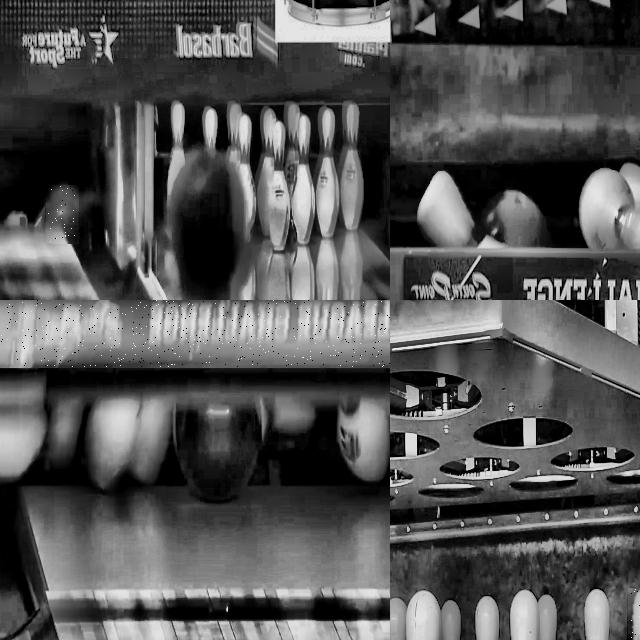bowling-ball: (173, 403, 261, 502), (46, 185, 78, 244)
bowling-pins: (538, 595, 556, 640)
sweep board: (390, 249, 640, 300)
